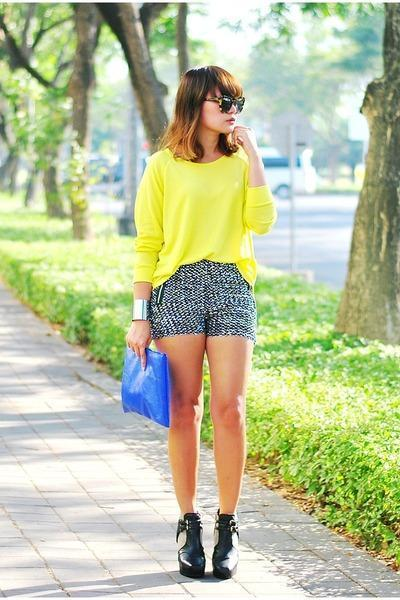bag: (121, 348, 170, 426)
shirt: (136, 148, 273, 287)
shoe: (176, 509, 238, 581)
shorts: (147, 263, 255, 347)
sunglass: (216, 84, 244, 113)
